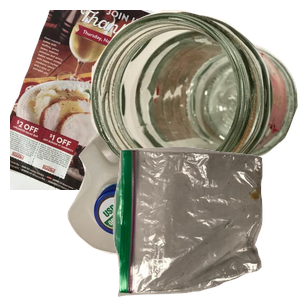glass: (90, 10, 300, 184)
paper: (10, 10, 224, 190)
plastic: (65, 123, 257, 300)
trash: (110, 144, 300, 300)
